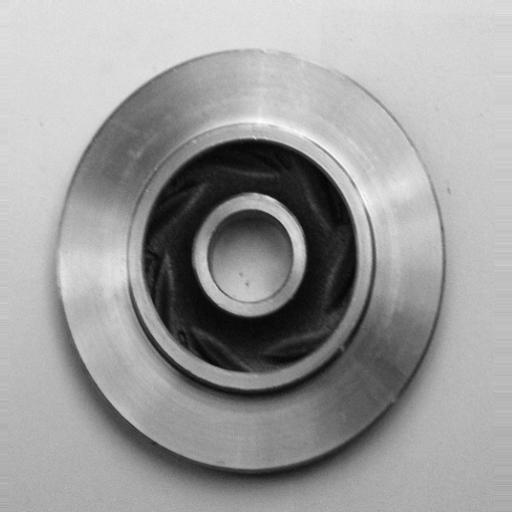scratch: (253, 41, 355, 81)
unpolished_casting: (52, 45, 449, 477)
